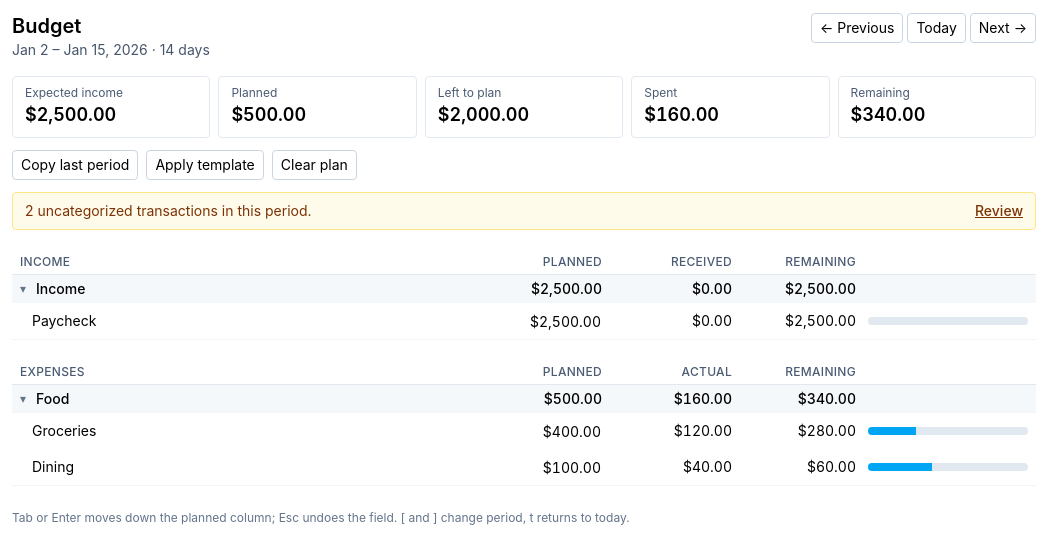
it: BudgetPage › Tab commits too, and takes amount math
Expected: the text "$2,000.00" is shown, [438,104,529,125]
Click the field named "Planned for Dining".
click(544, 467)  # box [480,453,608,481]
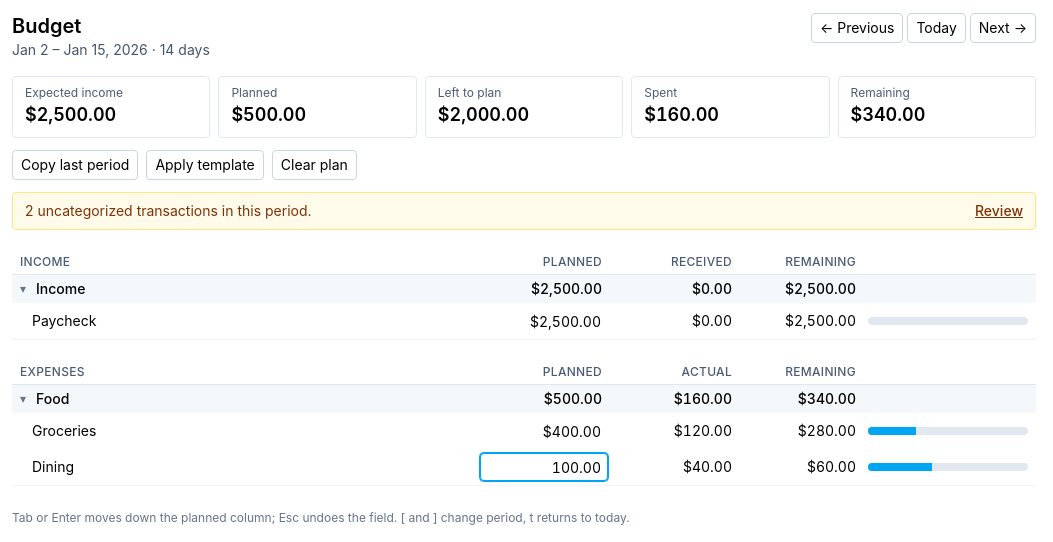
Type keys "20+15"
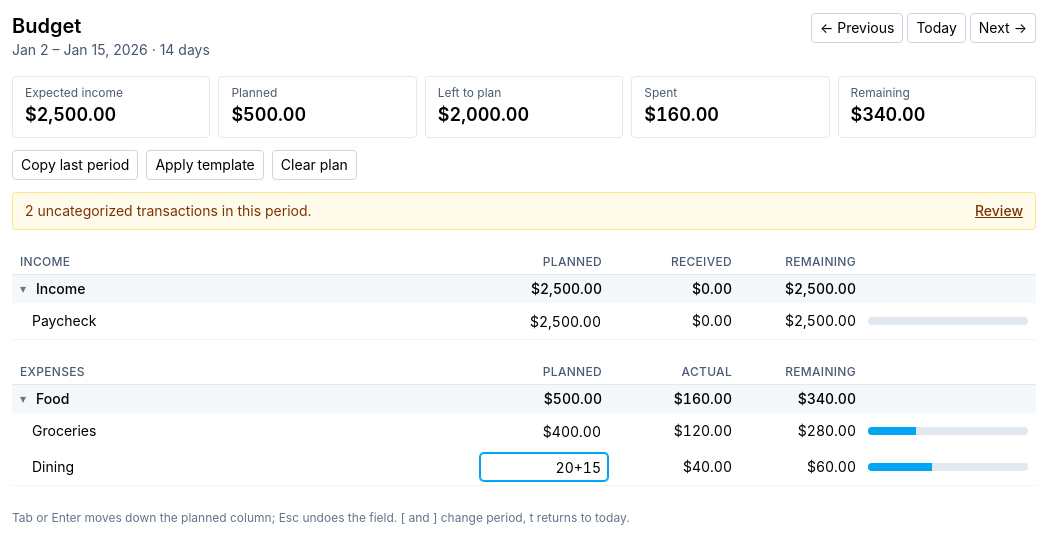
Press Tab
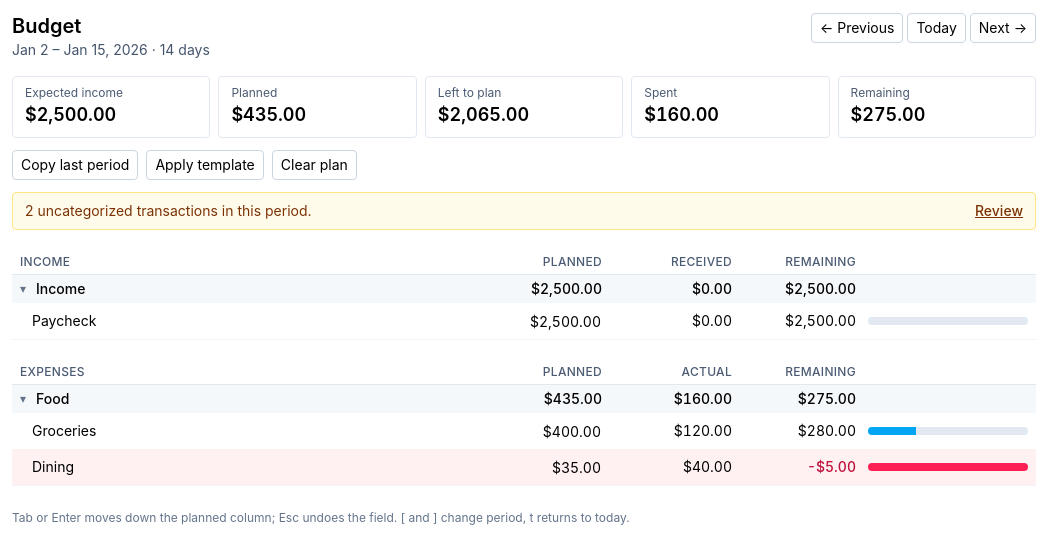
Expected: the text with test id "remaining-Dining" reads "-$5.00", [807,458,856,475]
